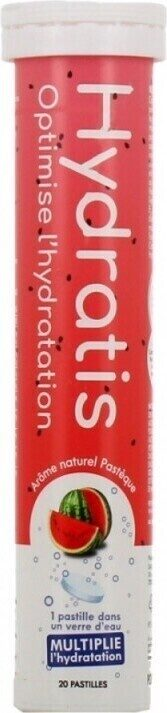Pasteque: (8, 36, 159, 677)
